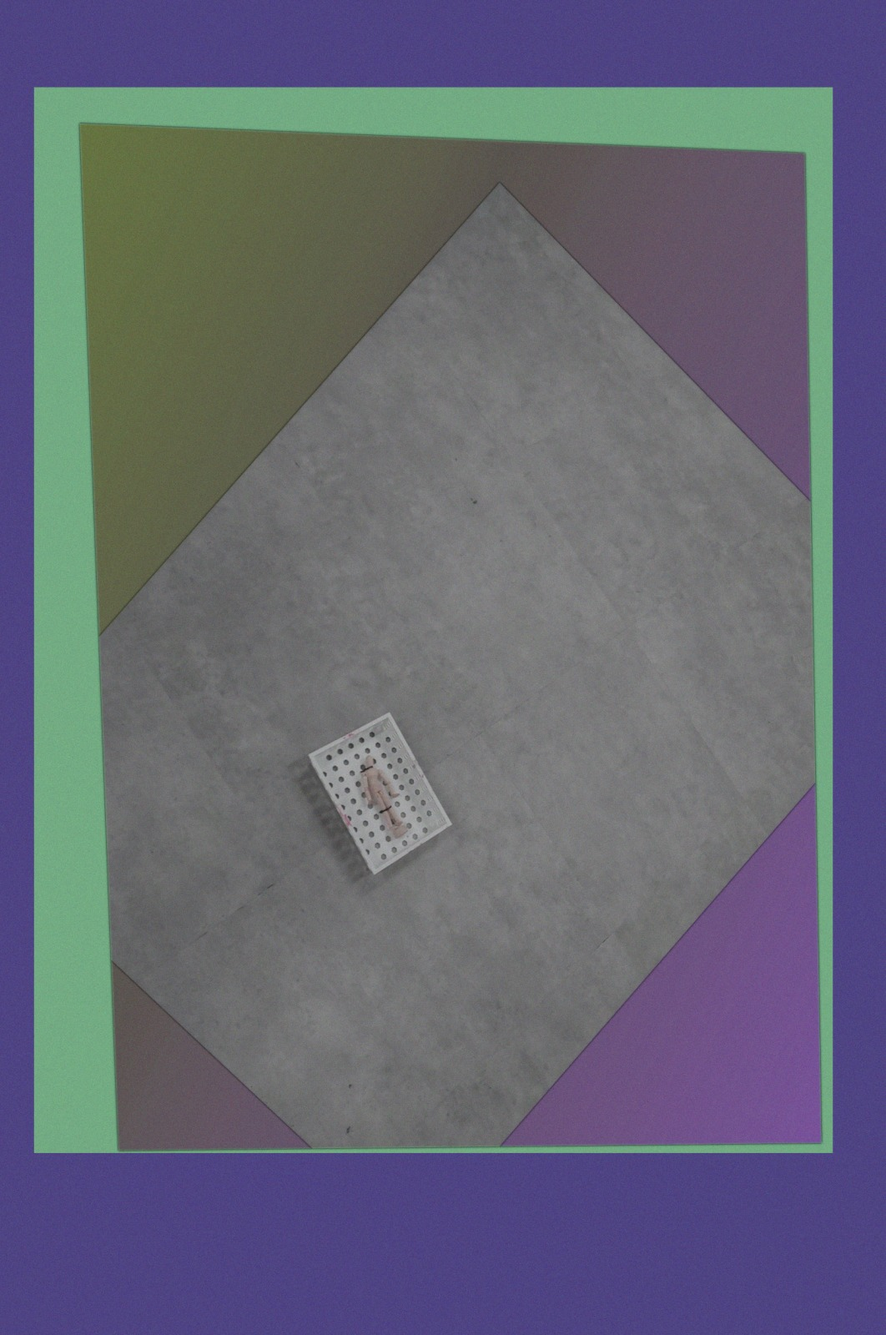basket: (303, 708, 453, 880)
mannequin: (359, 753, 410, 839)
